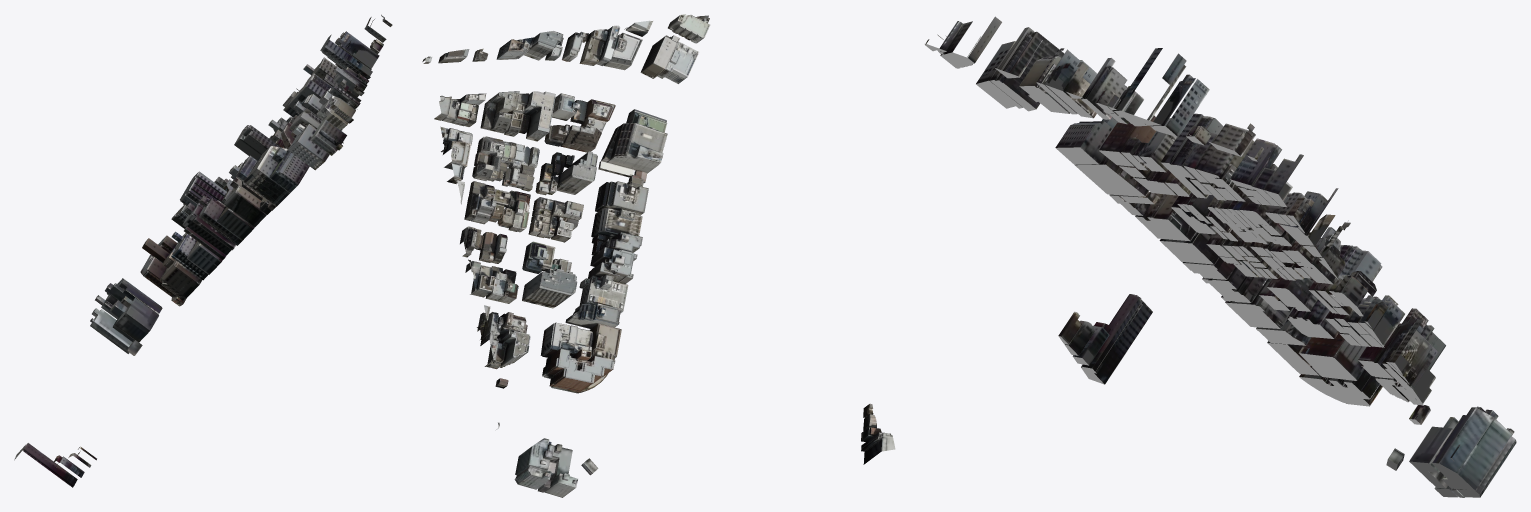
The model's file is 19771_bldg_Building.glb.
3 renders of one model, left to right at view 1: azimuth 30°, elevation 25°; view 2: azimuth 150°, elevation 25°; view 3: azimuth 270°, elevation 25°, orthographic. The views are drawn at different scales.
Size of the model in its own units: 321 by 269 by 269.
8 materials, 6 textured.
